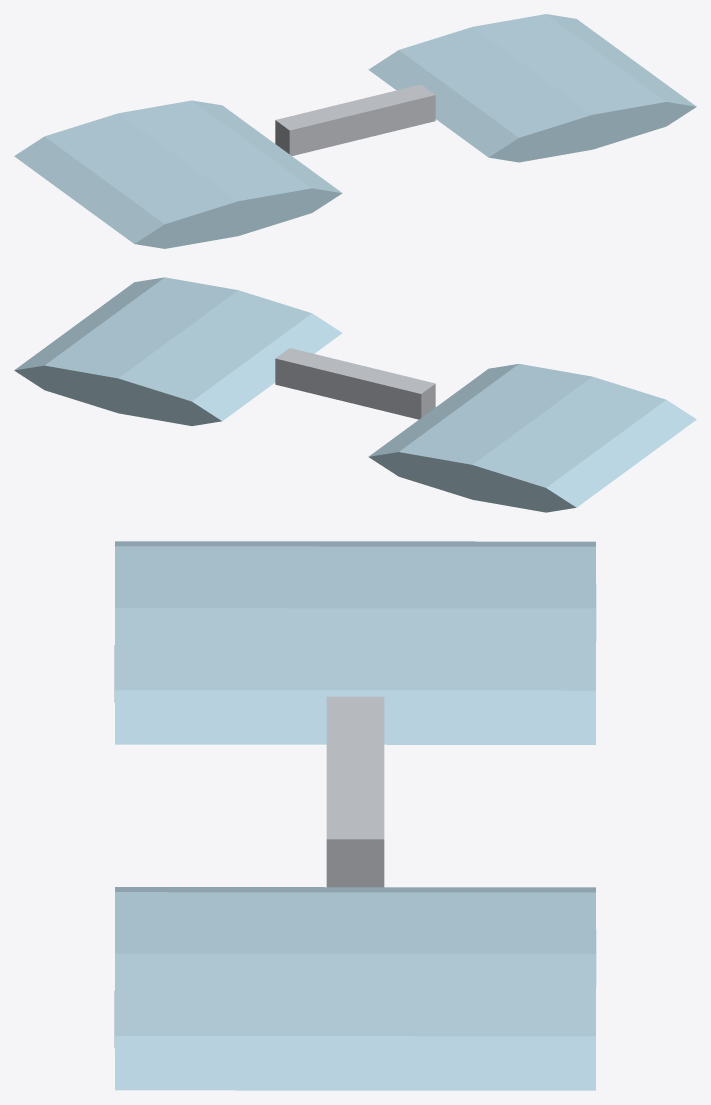
Rendered from glasses.glb.
3 views of the same model, one above another, from view 1: azimuth 30°, elevation 25°; view 2: azimuth 150°, elevation 25°; view 3: azimuth 270°, elevation 25° (orthographic). The views are drawn at different scales.
Visible parts, largest first — view 1: lens, lens.001, box; view 2: lens, lens.001, box; view 3: lens.001, lens, box.
Boxes of the visible parts, left/top/right/bottom form: lens: left=14, top=100, right=342, bottom=248; lens.001: left=368, top=14, right=696, bottom=162; box: left=275, top=84, right=435, bottom=155; lens: left=368, top=364, right=696, bottom=512; lens.001: left=14, top=277, right=342, bottom=425; box: left=275, top=348, right=435, bottom=419; lens.001: left=114, top=887, right=596, bottom=1090; lens: left=114, top=541, right=596, bottom=744; box: left=326, top=696, right=384, bottom=887.
Size of the model in its own units: 0.27 by 0.019 by 0.1.
